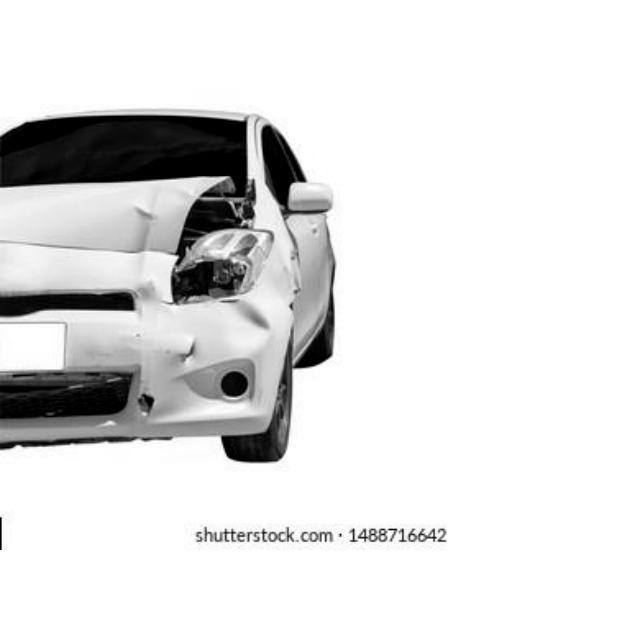Headlight-damage: (158, 192, 264, 298)
bonnet-dent: (2, 177, 220, 301)
front-bumper-dent: (0, 297, 274, 449)
